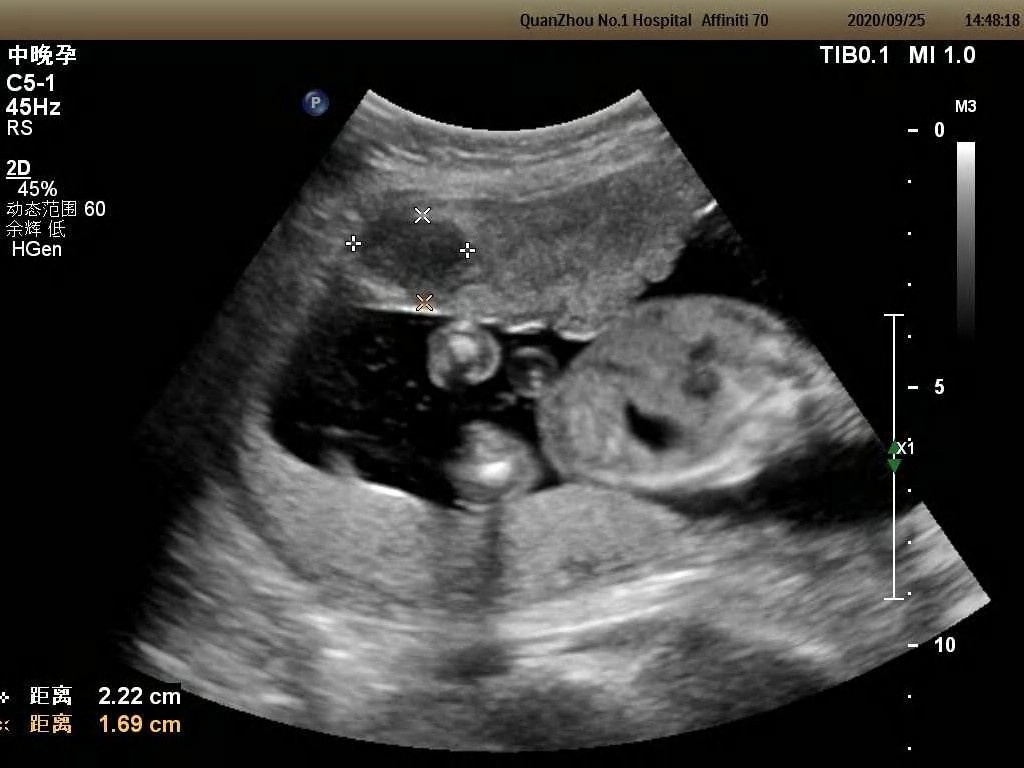肌瘤: (353, 215, 468, 302)
